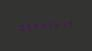five: (24, 21, 30, 32)
four: (66, 18, 72, 28)
nine: (31, 21, 37, 31)
one: (59, 18, 65, 29)
seven: (45, 20, 51, 30)
three: (38, 20, 44, 31), (52, 19, 58, 29)
zero: (17, 22, 23, 32)
